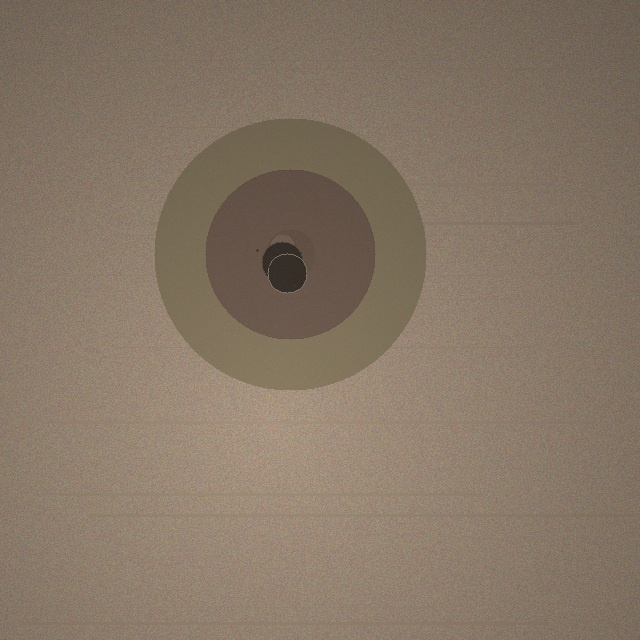shrinkage: (154, 118, 426, 390)
